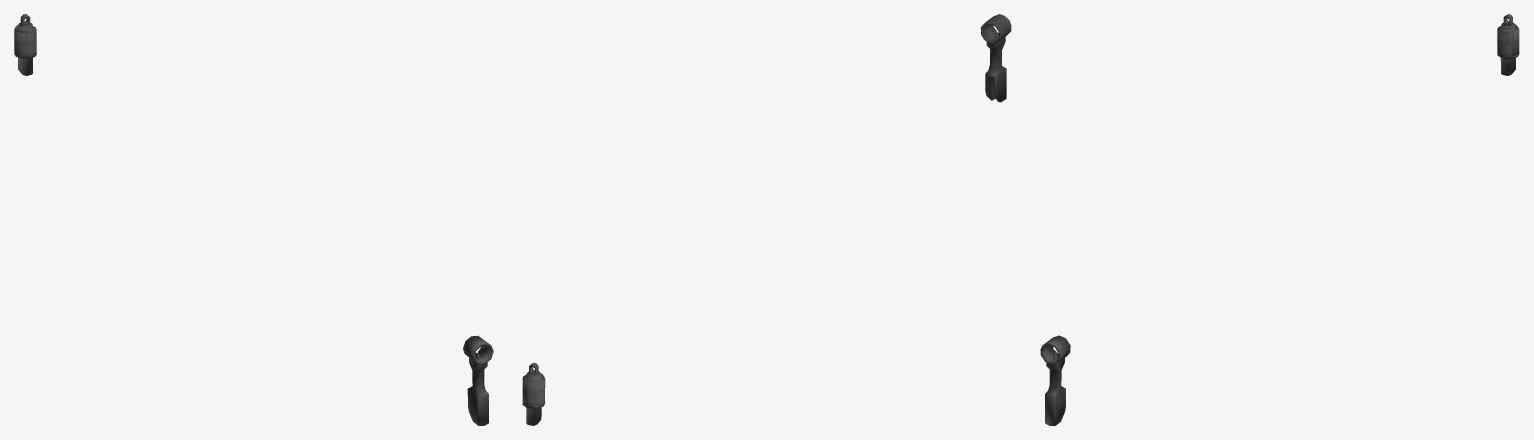
File: IronSightsFG42.fbx
The picture shows the model from 3 angles, left to right: view 1: azimuth 30°, elevation 25°; view 2: azimuth 150°, elevation 25°; view 3: azimuth 330°, elevation 25°; orthographic projection. The views are drawn at different scales.
Parts seen in each view (by area): view 1: Improved IronSights; view 2: Improved IronSights; view 3: Improved IronSights.
Boxes of the visible parts, x1=… form: Improved IronSights: x1=14, y1=14, x2=493, y2=425; Improved IronSights: x1=522, y1=14, x2=1011, y2=425; Improved IronSights: x1=1040, y1=14, x2=1519, y2=425.
Size of the model in its own units: 0.0086 by 0.0331 by 0.3395.
